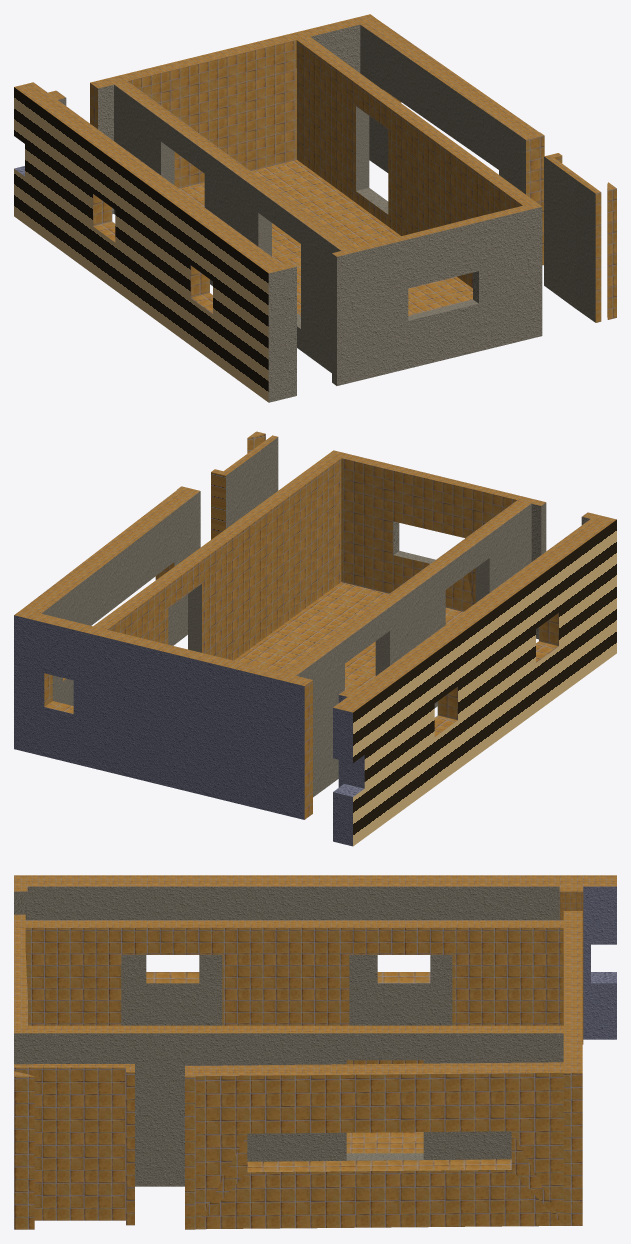
The model's file is eau_f1.obj.
The picture shows the model from 3 angles, top to bottom: view 1: azimuth 30°, elevation 25°; view 2: azimuth 150°, elevation 25°; view 3: azimuth 270°, elevation 25°; orthographic projection. The views are drawn at different scales.
Parts seen in each view (by area): view 1: Cube_Cube.002; view 2: Cube_Cube.002; view 3: Cube_Cube.002.
Boxes of the visible parts, bbox=[...] form: Cube_Cube.002: bbox=[14, 14, 616, 402]; Cube_Cube.002: bbox=[14, 431, 616, 846]; Cube_Cube.002: bbox=[14, 875, 616, 1229].
Bounding box in the file's own units: 6.2 × 2.2 × 7.86.
